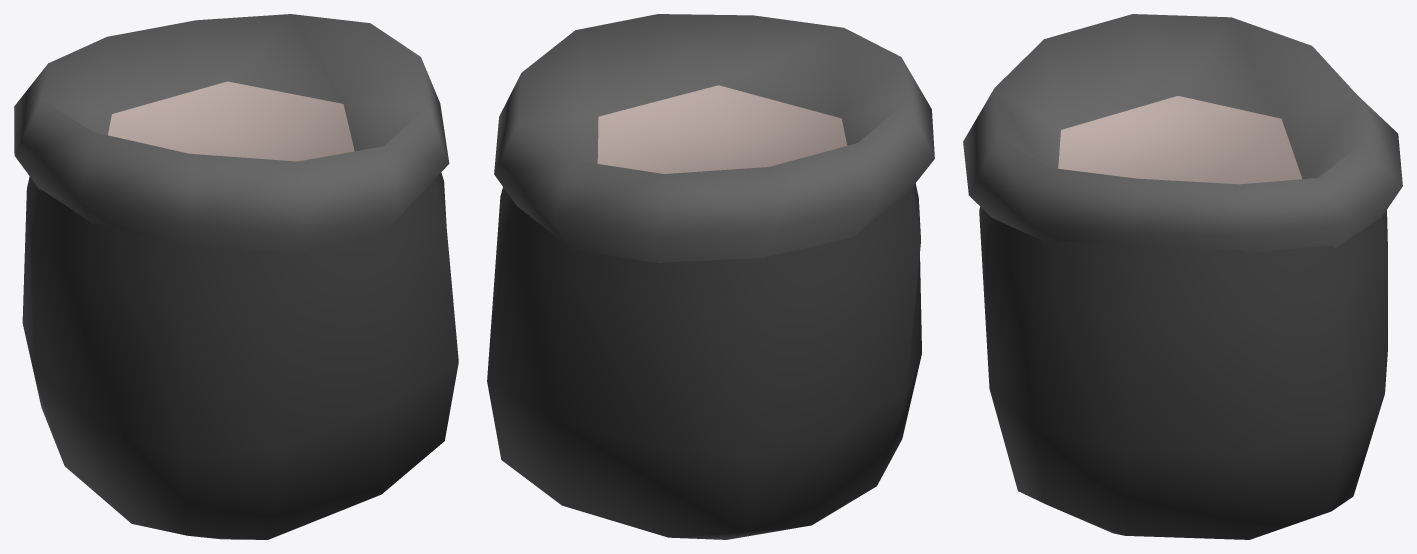
Rendered from bag_003.glb.
3 renders of one model, left to right at view 1: azimuth 30°, elevation 25°; view 2: azimuth 150°, elevation 25°; view 3: azimuth 270°, elevation 25°, orthographic. The views are drawn at different scales.
Visible parts, largest first — view 1: bag_003; view 2: bag_003; view 3: bag_003.
Part boxes in pixels (<box>): bag_003: <box>14,14,458,539</box>; bag_003: <box>487,14,934,539</box>; bag_003: <box>963,14,1402,539</box>.
Bounding box in the file's own units: 0.6194 × 0.6712 × 0.6363.
Materials: 1 (1 with a texture image).
